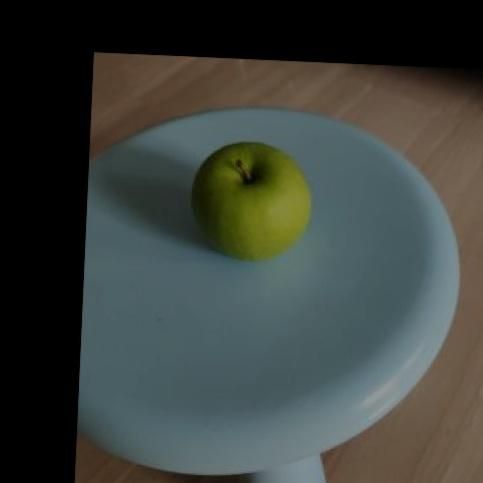green apple: (189, 140, 313, 261)
